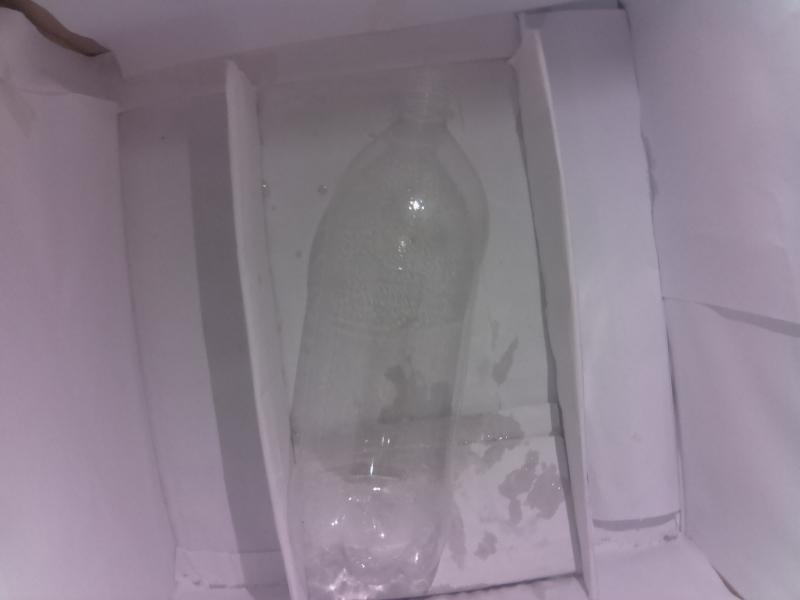BIODEGRADABLE: (276, 54, 510, 600)
